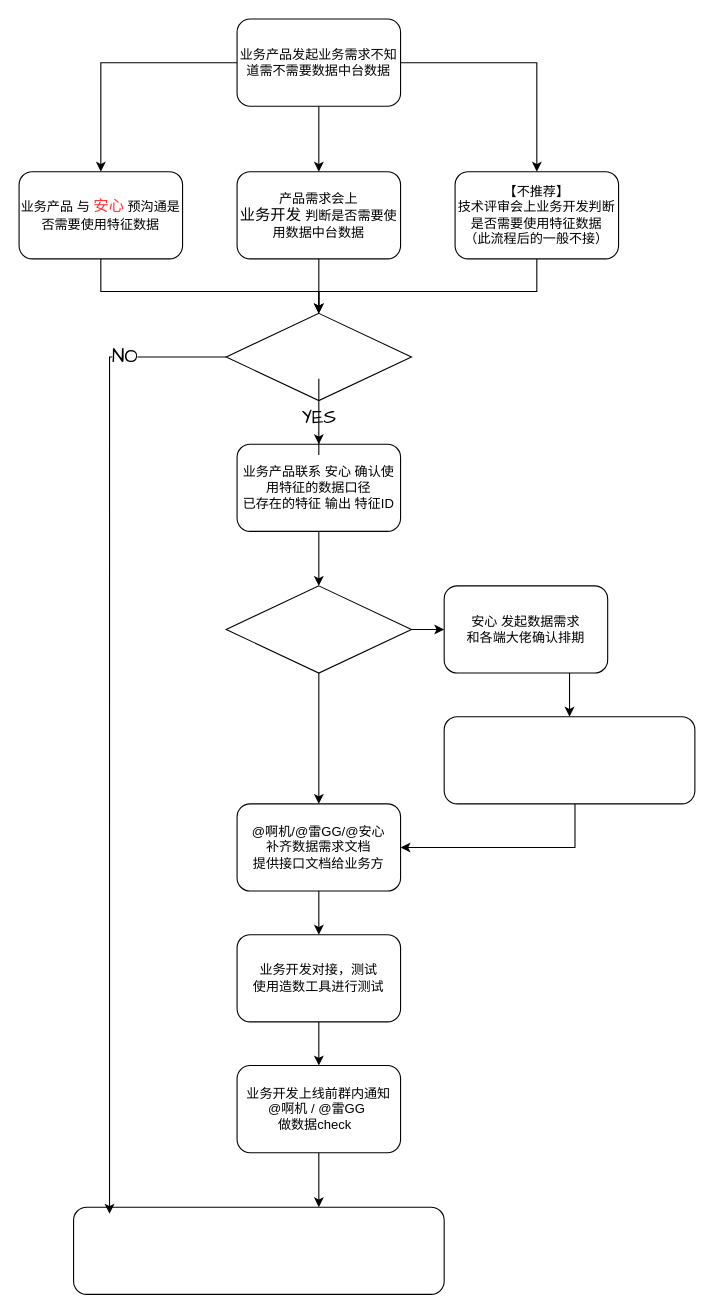
Image size: 714x1313. Some labels were removed from this diagram. Here are the shapes that lost their labels. From the top down, the centre of each, then its label:
[318,356]: 需要？
[318,629]: 需要开发？
[569,760]: @Jayqiyoung/@啊机/@雷GG 确认跟进需求， 输出特征ID和TagID， 由@安心输出给业务方
[258,1250]: 结束
